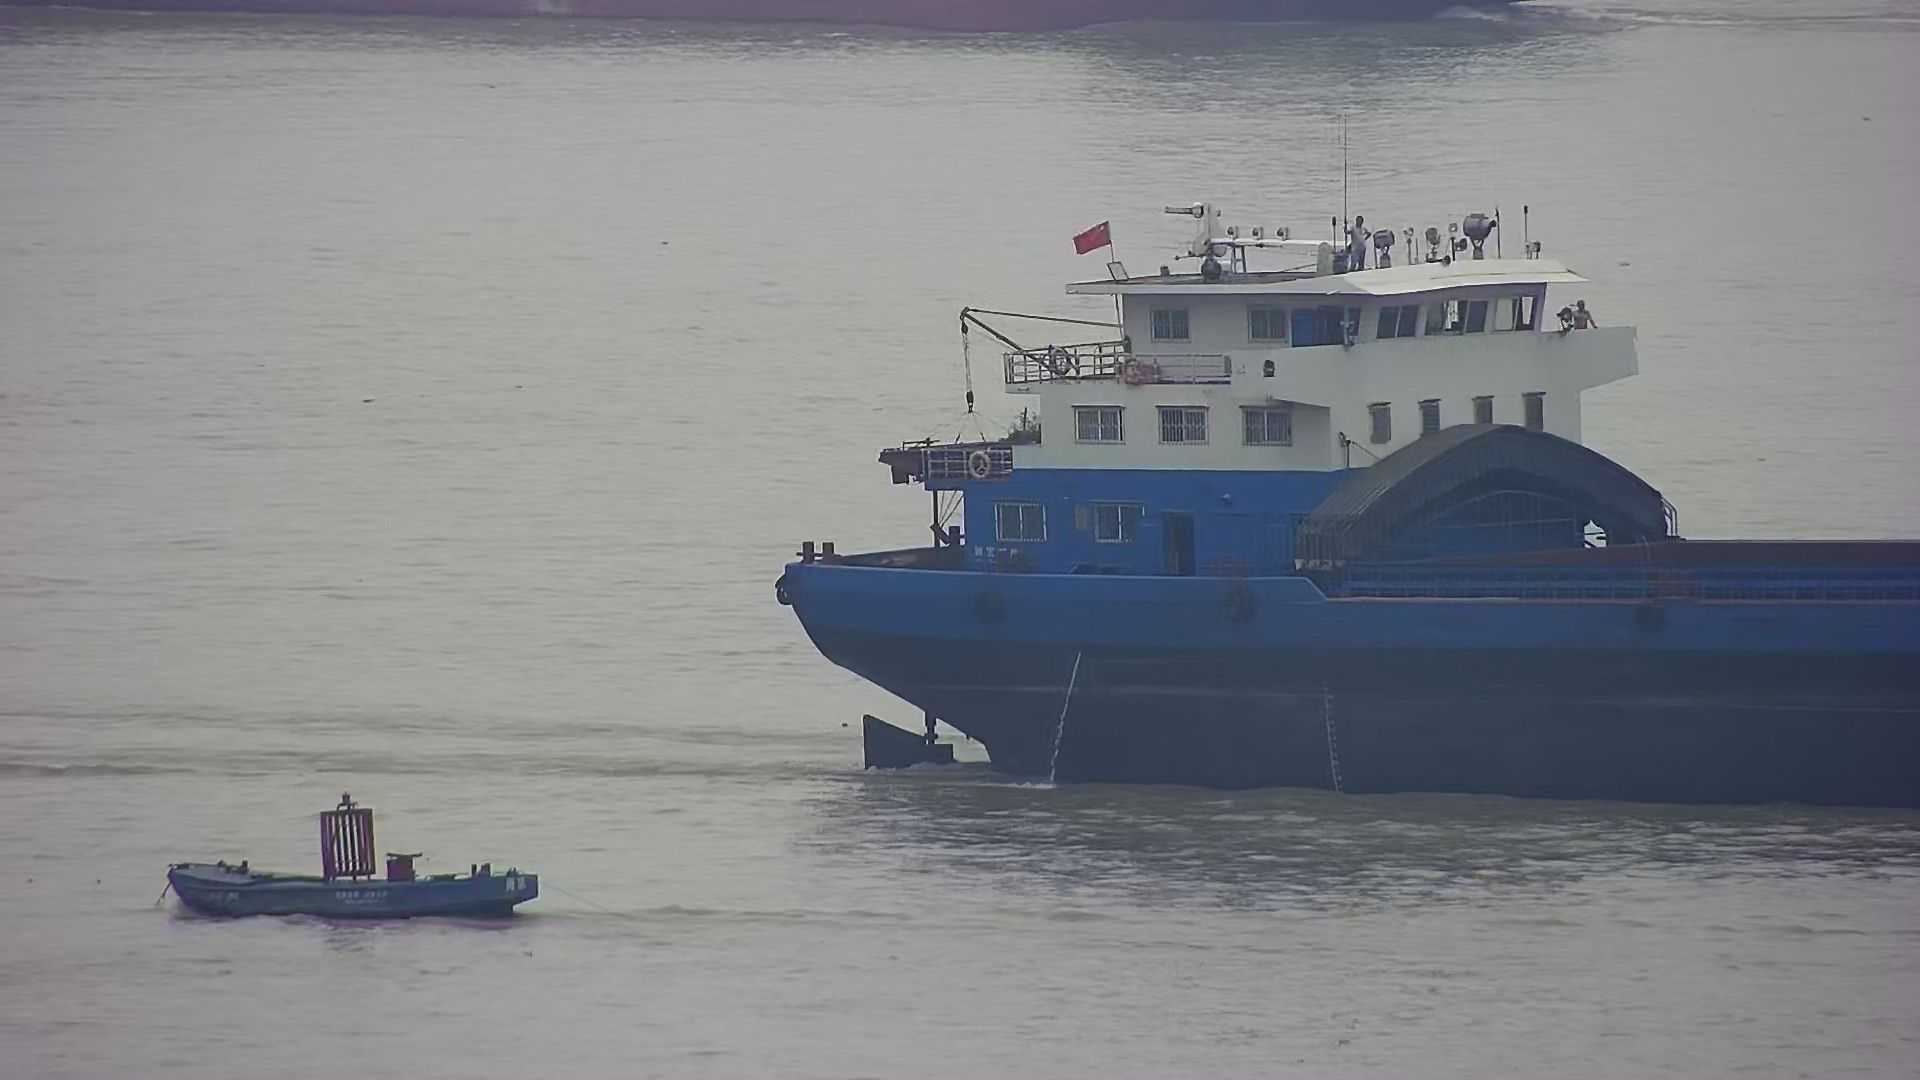boat: (158, 796, 545, 922)
ship: (769, 189, 1920, 814)
